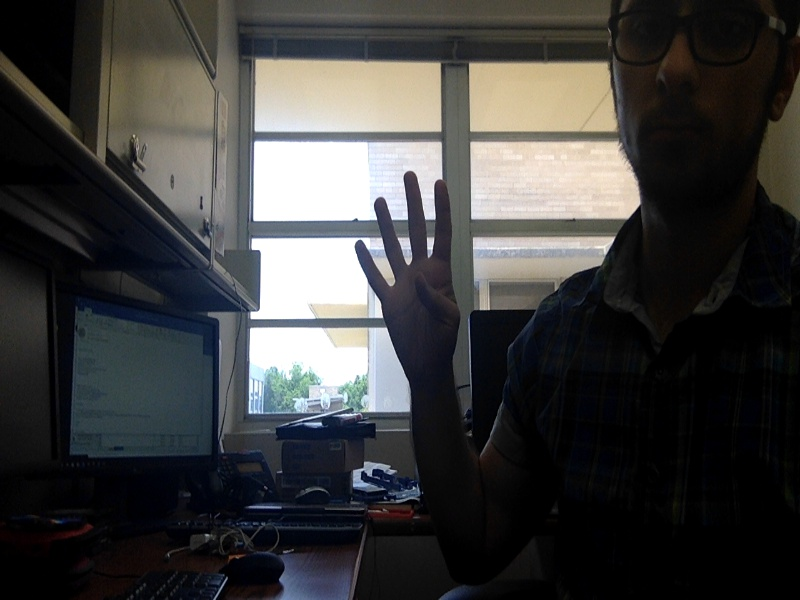4-hand: (353, 173, 465, 373)
